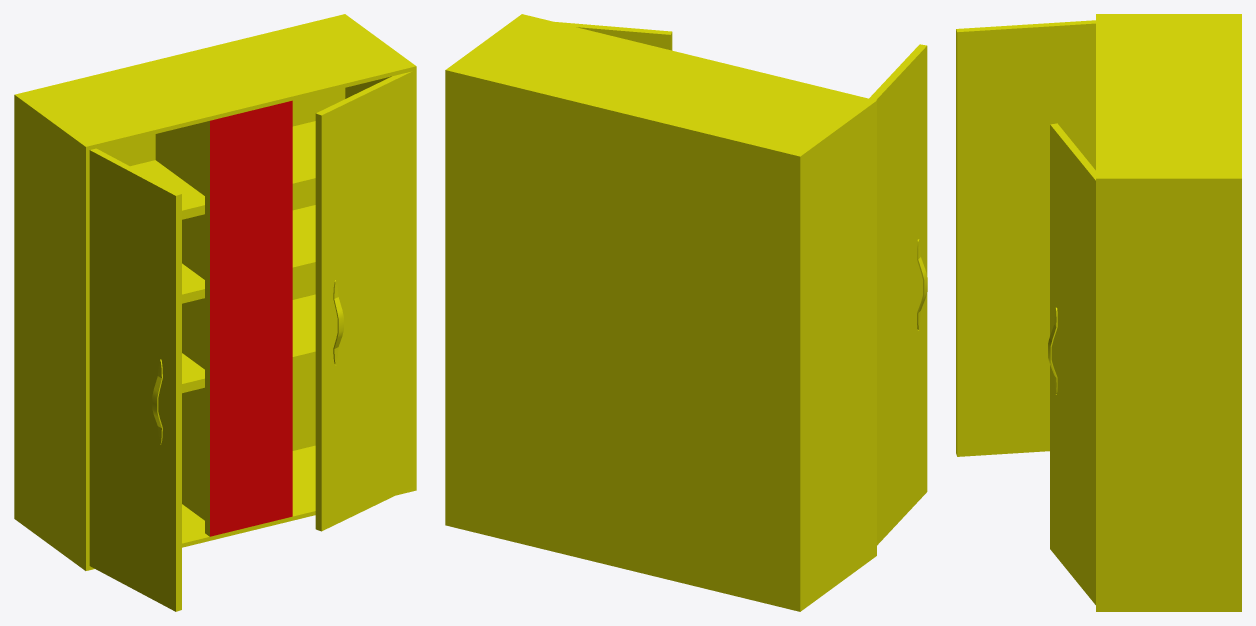
File: armoire_parent.fbx
3 views of the same model, side by side, from view 1: azimuth 30°, elevation 25°; view 2: azimuth 150°, elevation 25°; view 3: azimuth 270°, elevation 25° (orthographic). The views are drawn at different scales.
Parts seen in each view (by area): view 1: Armoire_Parent_high; view 2: Armoire_Parent_high; view 3: Armoire_Parent_high.
Boxes of the visible parts, x1,y1,x2,y2 form: Armoire_Parent_high: (14,14,416,611); Armoire_Parent_high: (445,14,927,611); Armoire_Parent_high: (956,14,1241,611).
Bounding box in the file's own units: 170 × 208 × 125.
